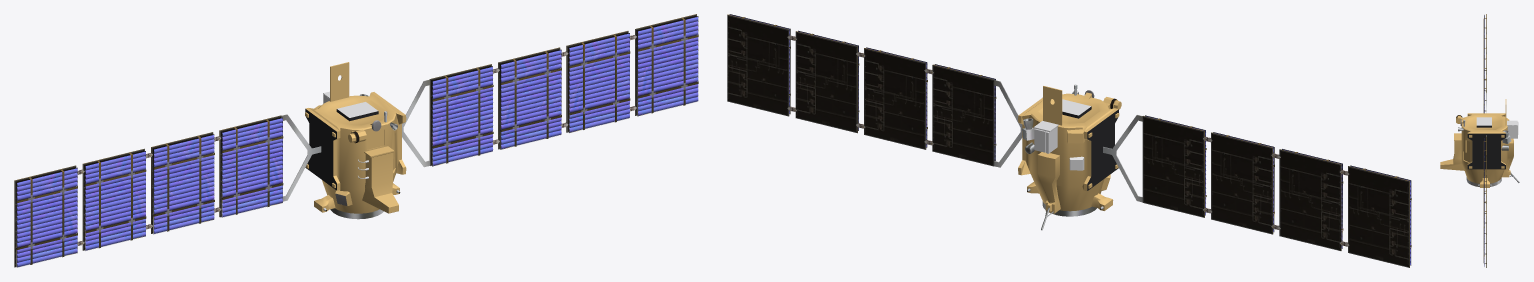
File: deep-space-1.glb
3 views of the same model, side by side, from view 1: azimuth 30°, elevation 25°; view 2: azimuth 150°, elevation 25°; view 3: azimuth 270°, elevation 25° (orthographic). The views are drawn at different scales.
Parts seen in each view (by area): view 1: shiny_panel, tex_01, foil_gold, black_krinkle, foil_silver; view 2: tex_01, foil_gold, black_krinkle, foil_silver, shiny_panel; view 3: foil_gold, black_krinkle, tex_01, foil_silver, shiny_panel.
Part boxes in pixels (x1=…): shiny_panel: x1=17, y1=17, x2=698, y2=267; tex_01: x1=14, y1=14, x2=698, y2=267; foil_gold: x1=305, y1=62, x2=406, y2=213; black_krinkle: x1=305, y1=109, x2=378, y2=190; foil_silver: x1=323, y1=91, x2=377, y2=178; tex_01: x1=727, y1=14, x2=1411, y2=267; foil_gold: x1=1018, y1=86, x2=1121, y2=213; black_krinkle: x1=1062, y1=106, x2=1118, y2=190; foil_silver: x1=1033, y1=99, x2=1090, y2=170; shiny_panel: x1=730, y1=14, x2=1410, y2=265; foil_gold: x1=1440, y1=99, x2=1513, y2=187; black_krinkle: x1=1467, y1=125, x2=1505, y2=169; tex_01: x1=1456, y1=14, x2=1519, y2=267; foil_silver: x1=1476, y1=117, x2=1518, y2=138; shiny_panel: x1=1484, y1=15, x2=1484, y2=266.
Size of the model in its own units: 11.75 by 2.21 by 1.95.
5 materials, 2 textured.
